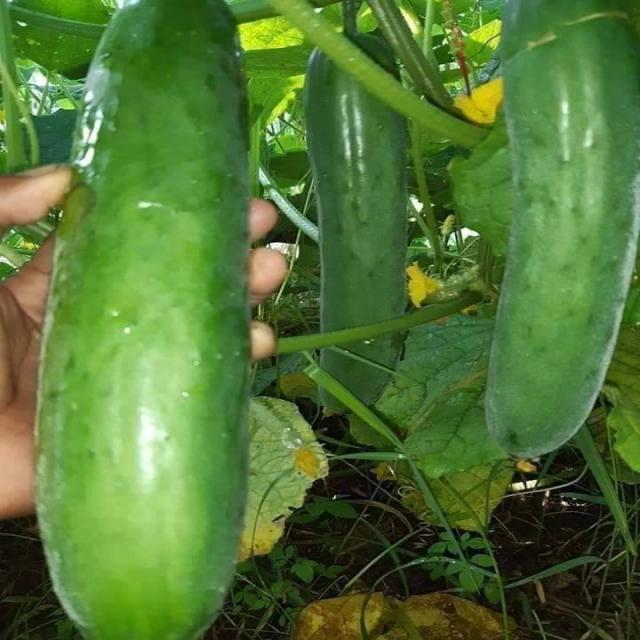cucumber: (32, 0, 242, 640), (482, 1, 640, 456), (304, 29, 409, 408)
